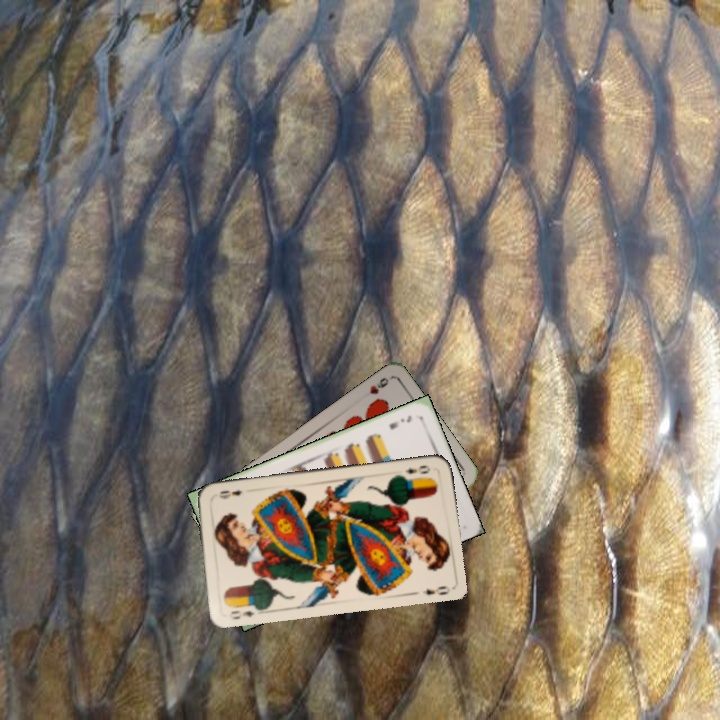E7: (385, 412, 414, 432)
EO: (401, 461, 433, 477), (227, 606, 257, 622)
H9: (365, 373, 391, 397)
